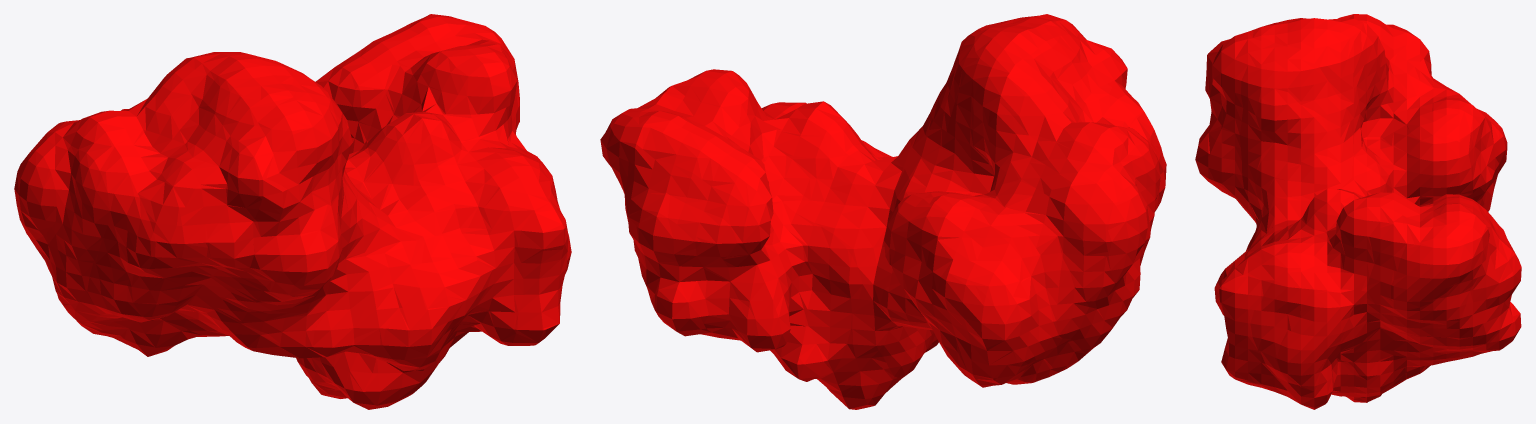
File: Guanine_nucleotide_binding_pro_7_coarse.dae
3 renders of one model, left to right at view 1: azimuth 30°, elevation 25°; view 2: azimuth 150°, elevation 25°; view 3: azimuth 270°, elevation 25°, orthographic. The views are drawn at different scales.
Visible parts, largest first — view 1: Guanine_nucleotide_binding_pro_7; view 2: Guanine_nucleotide_binding_pro_7; view 3: Guanine_nucleotide_binding_pro_7.
Part boxes in pixels (left/top/right/bottom): Guanine_nucleotide_binding_pro_7: left=14, top=14, right=571, bottom=409; Guanine_nucleotide_binding_pro_7: left=600, top=14, right=1166, bottom=409; Guanine_nucleotide_binding_pro_7: left=1195, top=14, right=1521, bottom=409.
Size of the model in its own units: 101 by 74.08 by 66.58.
